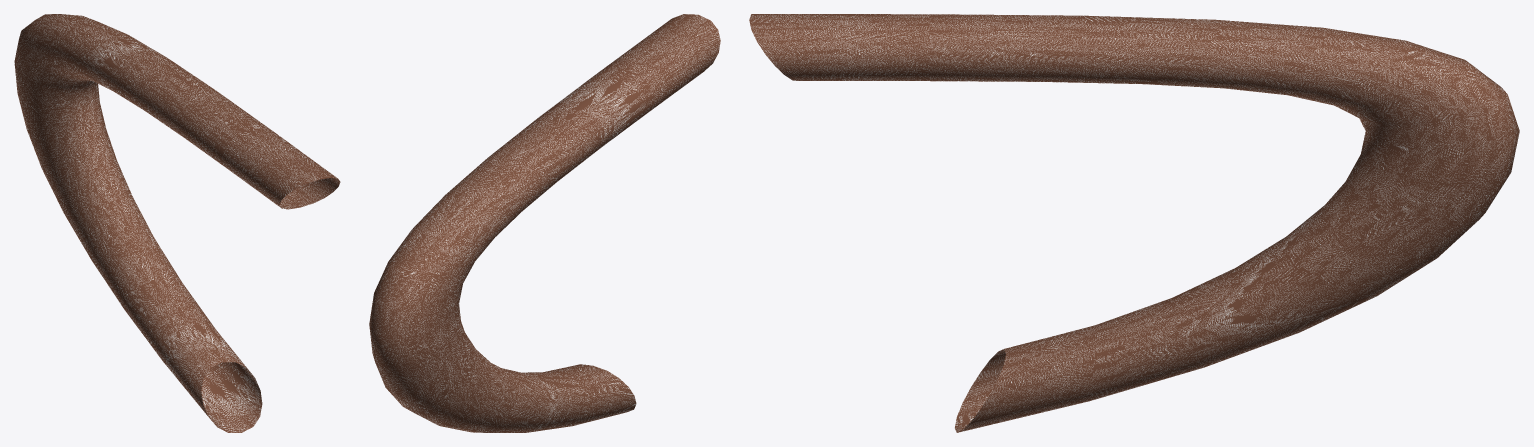
File: original-4.obj
3 views of the same model, side by side, from view 1: azimuth 30°, elevation 25°; view 2: azimuth 150°, elevation 25°; view 3: azimuth 270°, elevation 25° (orthographic). The views are drawn at different scales.
Parts seen in each view (by area): view 1: mesh3/mesh3-geometry#mesh3-geometry; view 2: mesh3/mesh3-geometry#mesh3-geometry; view 3: mesh3/mesh3-geometry#mesh3-geometry.
Part boxes in pixels (box(x1,y1,x2,y2)): mesh3/mesh3-geometry#mesh3-geometry: box(14, 14, 340, 432); mesh3/mesh3-geometry#mesh3-geometry: box(369, 14, 720, 432); mesh3/mesh3-geometry#mesh3-geometry: box(749, 14, 1519, 432).
Size of the model in its own units: 0.1016 by 0.5253 by 0.8982.
